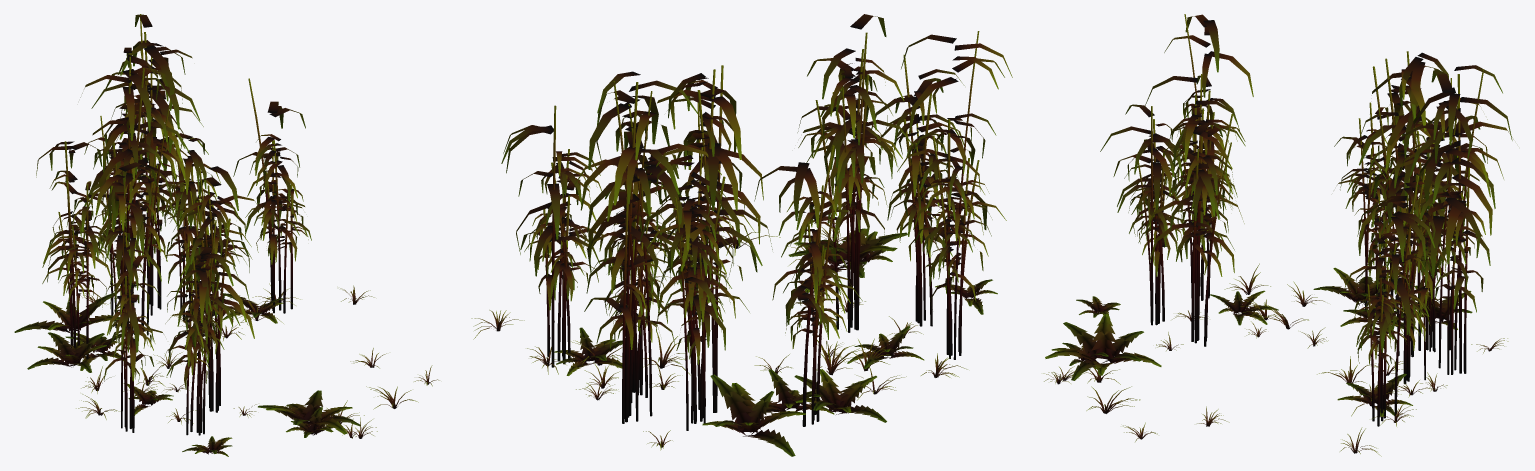
File: patch_bamboo.glb
3 renders of one model, left to right at view 1: azimuth 30°, elevation 25°; view 2: azimuth 150°, elevation 25°; view 3: azimuth 270°, elevation 25°, orthographic. The views are drawn at different scales.
Visible parts, largest first — view 1: patch_bamboo; view 2: patch_bamboo; view 3: patch_bamboo.
Boxes of the visible parts, x1,y1,x2,y2 form: patch_bamboo: [14, 14, 439, 456]; patch_bamboo: [471, 14, 1012, 456]; patch_bamboo: [1043, 14, 1513, 456].
Size of the model in its own units: 11.26 by 8.64 by 12.25.
1 material, 1 textured.
